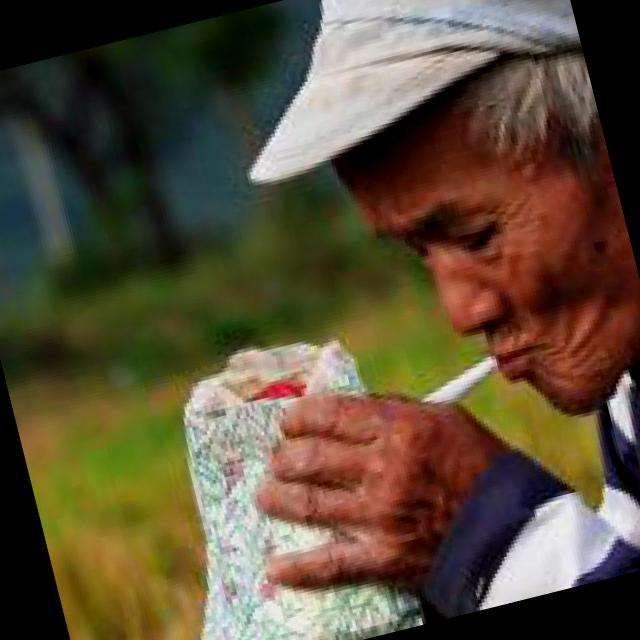cigarette: (388, 341, 530, 412)
